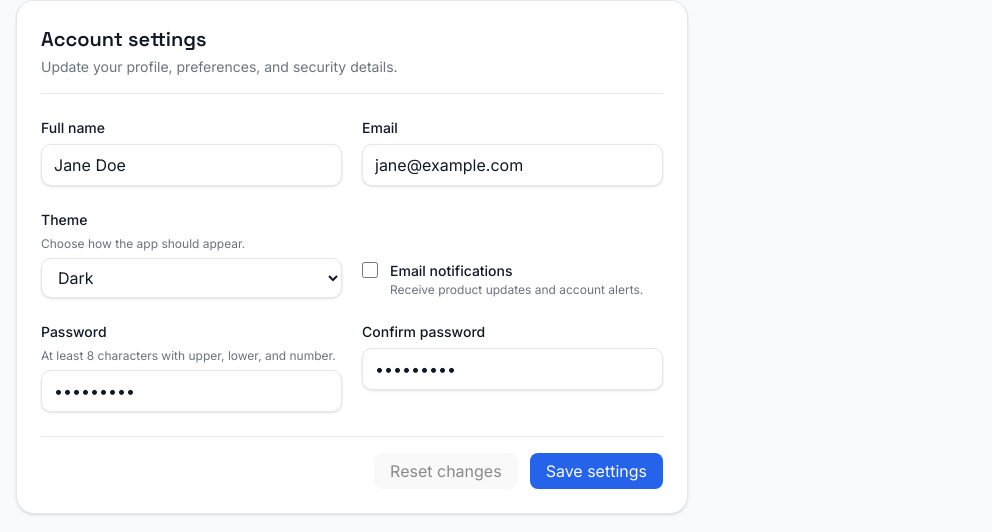
SettingsForm › shows a success toast after submit
Click the button "Save settings": (596, 471) top-left (530, 453), bottom-right (663, 489)
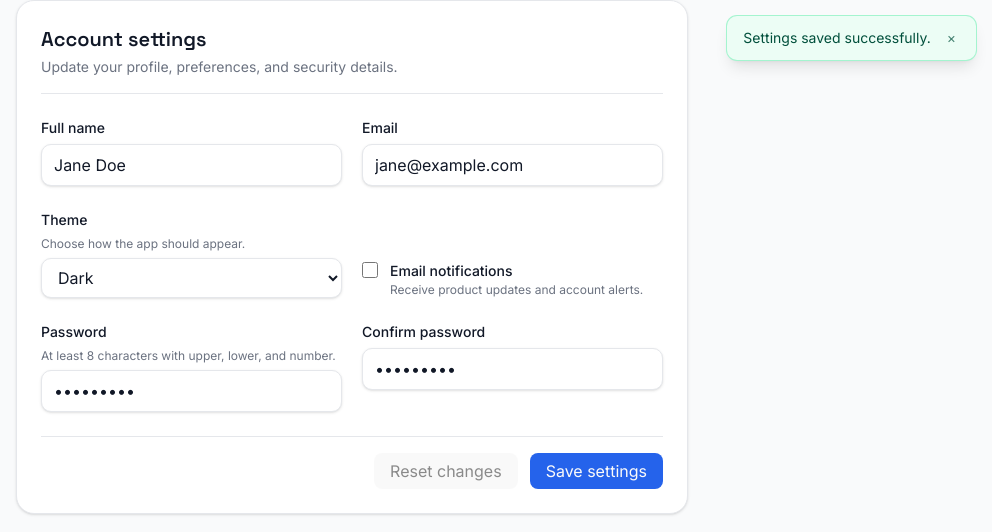
Result: the message shows "Settings saved successfully" at top-left (743, 29), bottom-right (931, 46)
